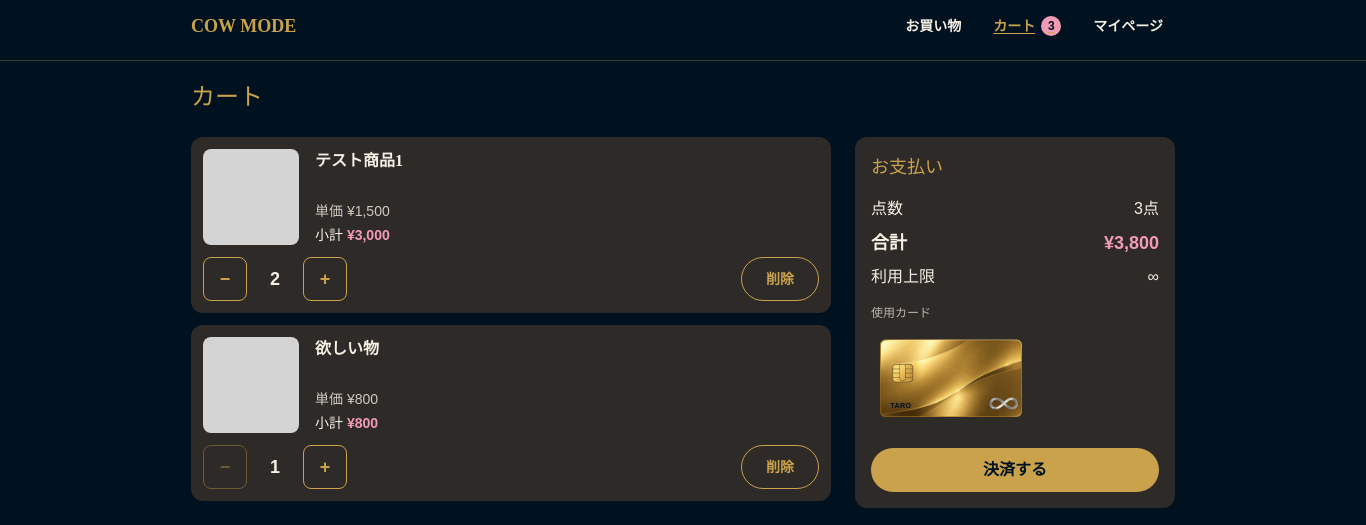
CartPage(数量の変更) › 「−」で、数量が1減る
Click the button named "テスト商品1の数量を減らす" at (225, 279), box [203,257,247,301]
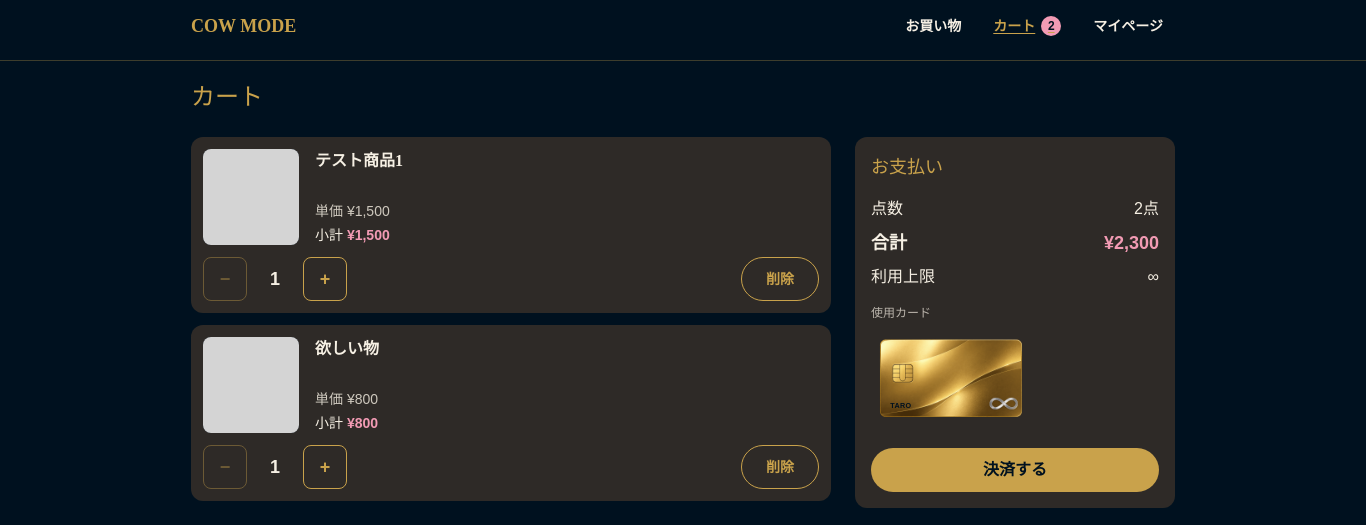
Result: the text "¥1,500" is shown at [347,227,390,243]
Result: the text "¥2,300" is shown at [1104,229,1159,257]
